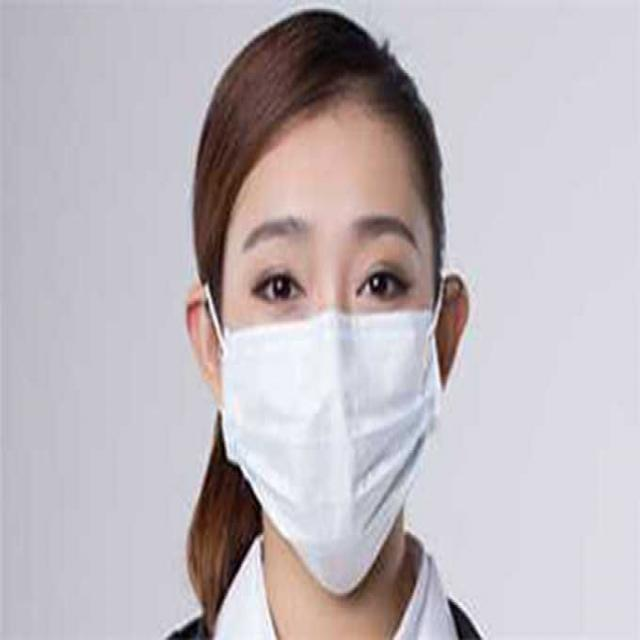mask: (222, 124, 442, 600)
